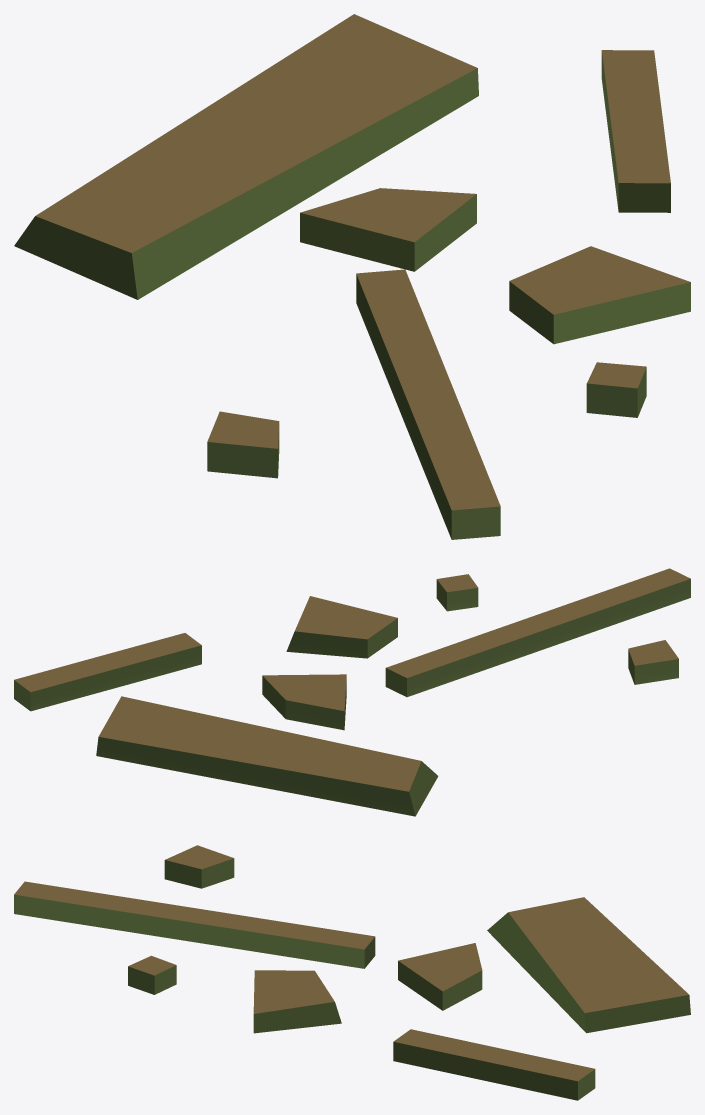
The model's file is SM_Env_Rubble_03.gltf.
3 renders of one model, top to bottom at view 1: azimuth 30°, elevation 25°; view 2: azimuth 150°, elevation 25°; view 3: azimuth 270°, elevation 25°, orthographic. The views are drawn at different scales.
Parts seen in each view (by area): view 1: SM_Env_Rubble_03; view 2: SM_Env_Rubble_03; view 3: SM_Env_Rubble_03.
Part boxes in pixels (x1,y1,x2,y2): SM_Env_Rubble_03: [14, 14, 690, 539]; SM_Env_Rubble_03: [14, 568, 690, 816]; SM_Env_Rubble_03: [14, 845, 690, 1100].
Size of the model in its own units: 6.93 by 0.746 by 8.39.
Materials: 1 (1 with a texture image).
